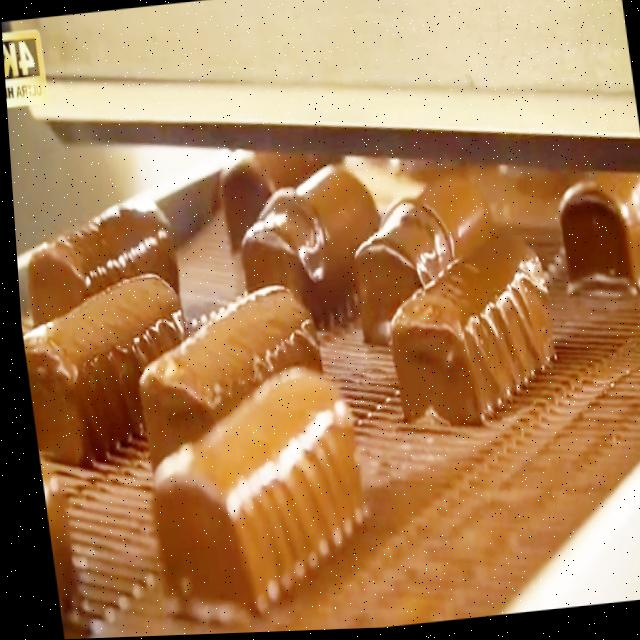Choco: (128, 358, 373, 624), (111, 275, 332, 496), (372, 228, 562, 436), (14, 268, 195, 484), (10, 183, 187, 373), (333, 165, 499, 359), (223, 160, 384, 342), (546, 176, 640, 315)
